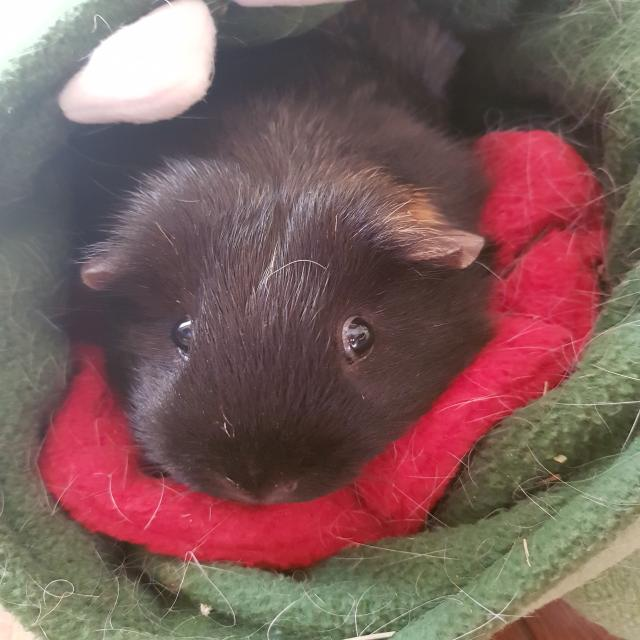guinea pig: (60, 1, 498, 506)
